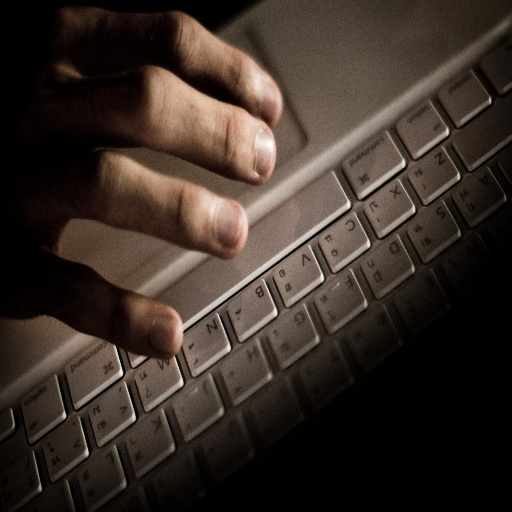hand: (2, 0, 297, 262)
